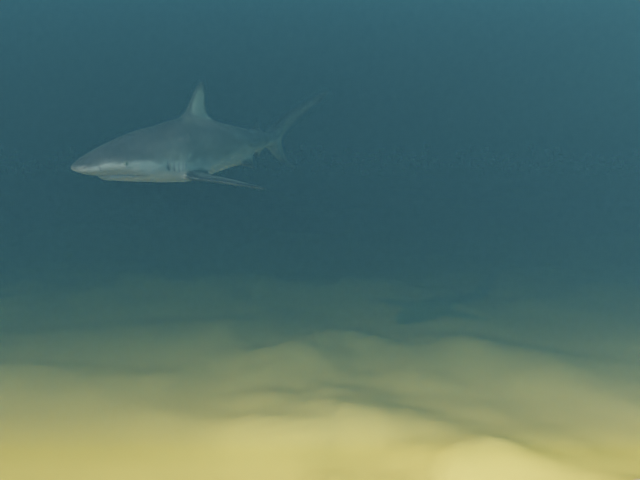Carribean Shark.001: (70, 81, 328, 189)
